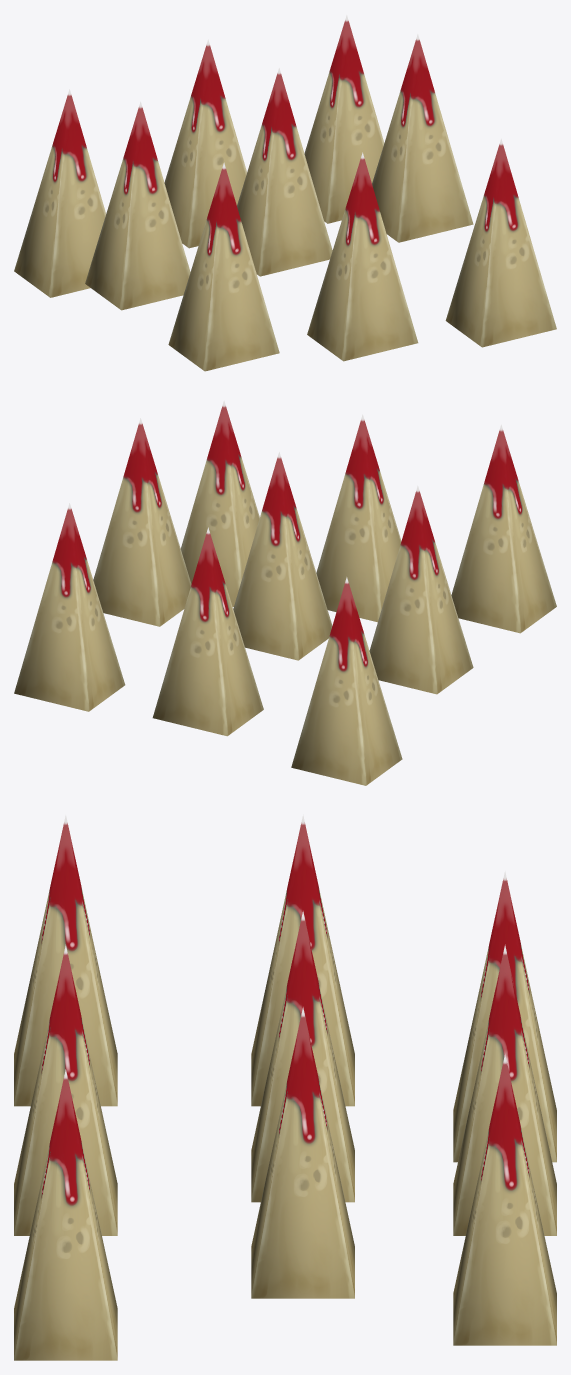
The model's file is chuzos.FBX.
The picture shows the model from 3 angles, top to bottom: view 1: azimuth 30°, elevation 25°; view 2: azimuth 150°, elevation 25°; view 3: azimuth 270°, elevation 25°; orthographic projection. The views are drawn at different scales.
Parts seen in each view (by area): view 1: chuzos; view 2: chuzos; view 3: chuzos.
Part boxes in pixels (x1,y1,x2,y2): chuzos: [14, 15, 556, 371]; chuzos: [14, 400, 556, 785]; chuzos: [14, 814, 556, 1360].
Size of the model in its own units: 75.51 by 47.25 by 70.92.
Materials: 1 (1 with a texture image).
